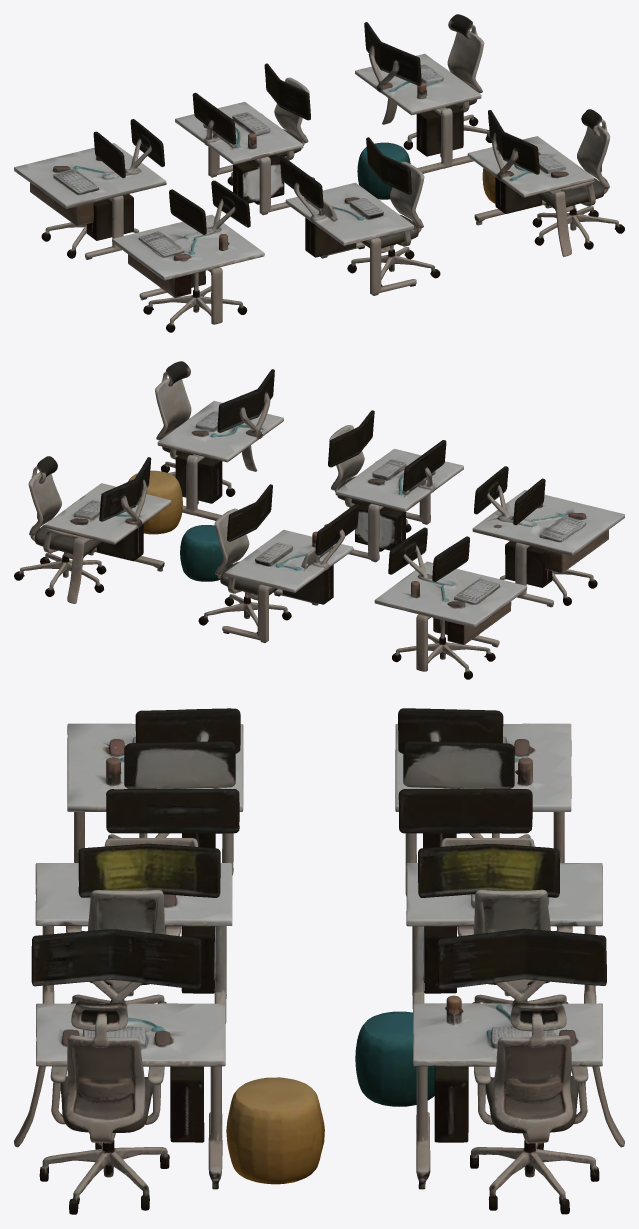
File: classe.glb
3 renders of one model, top to bottom at view 1: azimuth 30°, elevation 25°; view 2: azimuth 150°, elevation 25°; view 3: azimuth 270°, elevation 25°, orthographic. The views are drawn at different scales.
Parts seen in each view (by area): view 1: aiprintgen_node_10588cb1-ba8d-4e87-be2e-22a8c1e5c3e7; view 2: aiprintgen_node_10588cb1-ba8d-4e87-be2e-22a8c1e5c3e7; view 3: aiprintgen_node_10588cb1-ba8d-4e87-be2e-22a8c1e5c3e7.
Boxes of the visible parts, x1,y1,x2,y2 form: aiprintgen_node_10588cb1-ba8d-4e87-be2e-22a8c1e5c3e7: (14, 14, 624, 332); aiprintgen_node_10588cb1-ba8d-4e87-be2e-22a8c1e5c3e7: (14, 361, 624, 679); aiprintgen_node_10588cb1-ba8d-4e87-be2e-22a8c1e5c3e7: (14, 708, 624, 1214).
Size of the model in its own units: 0.9999 by 0.2456 by 0.6835.
1 material, 1 textured.
